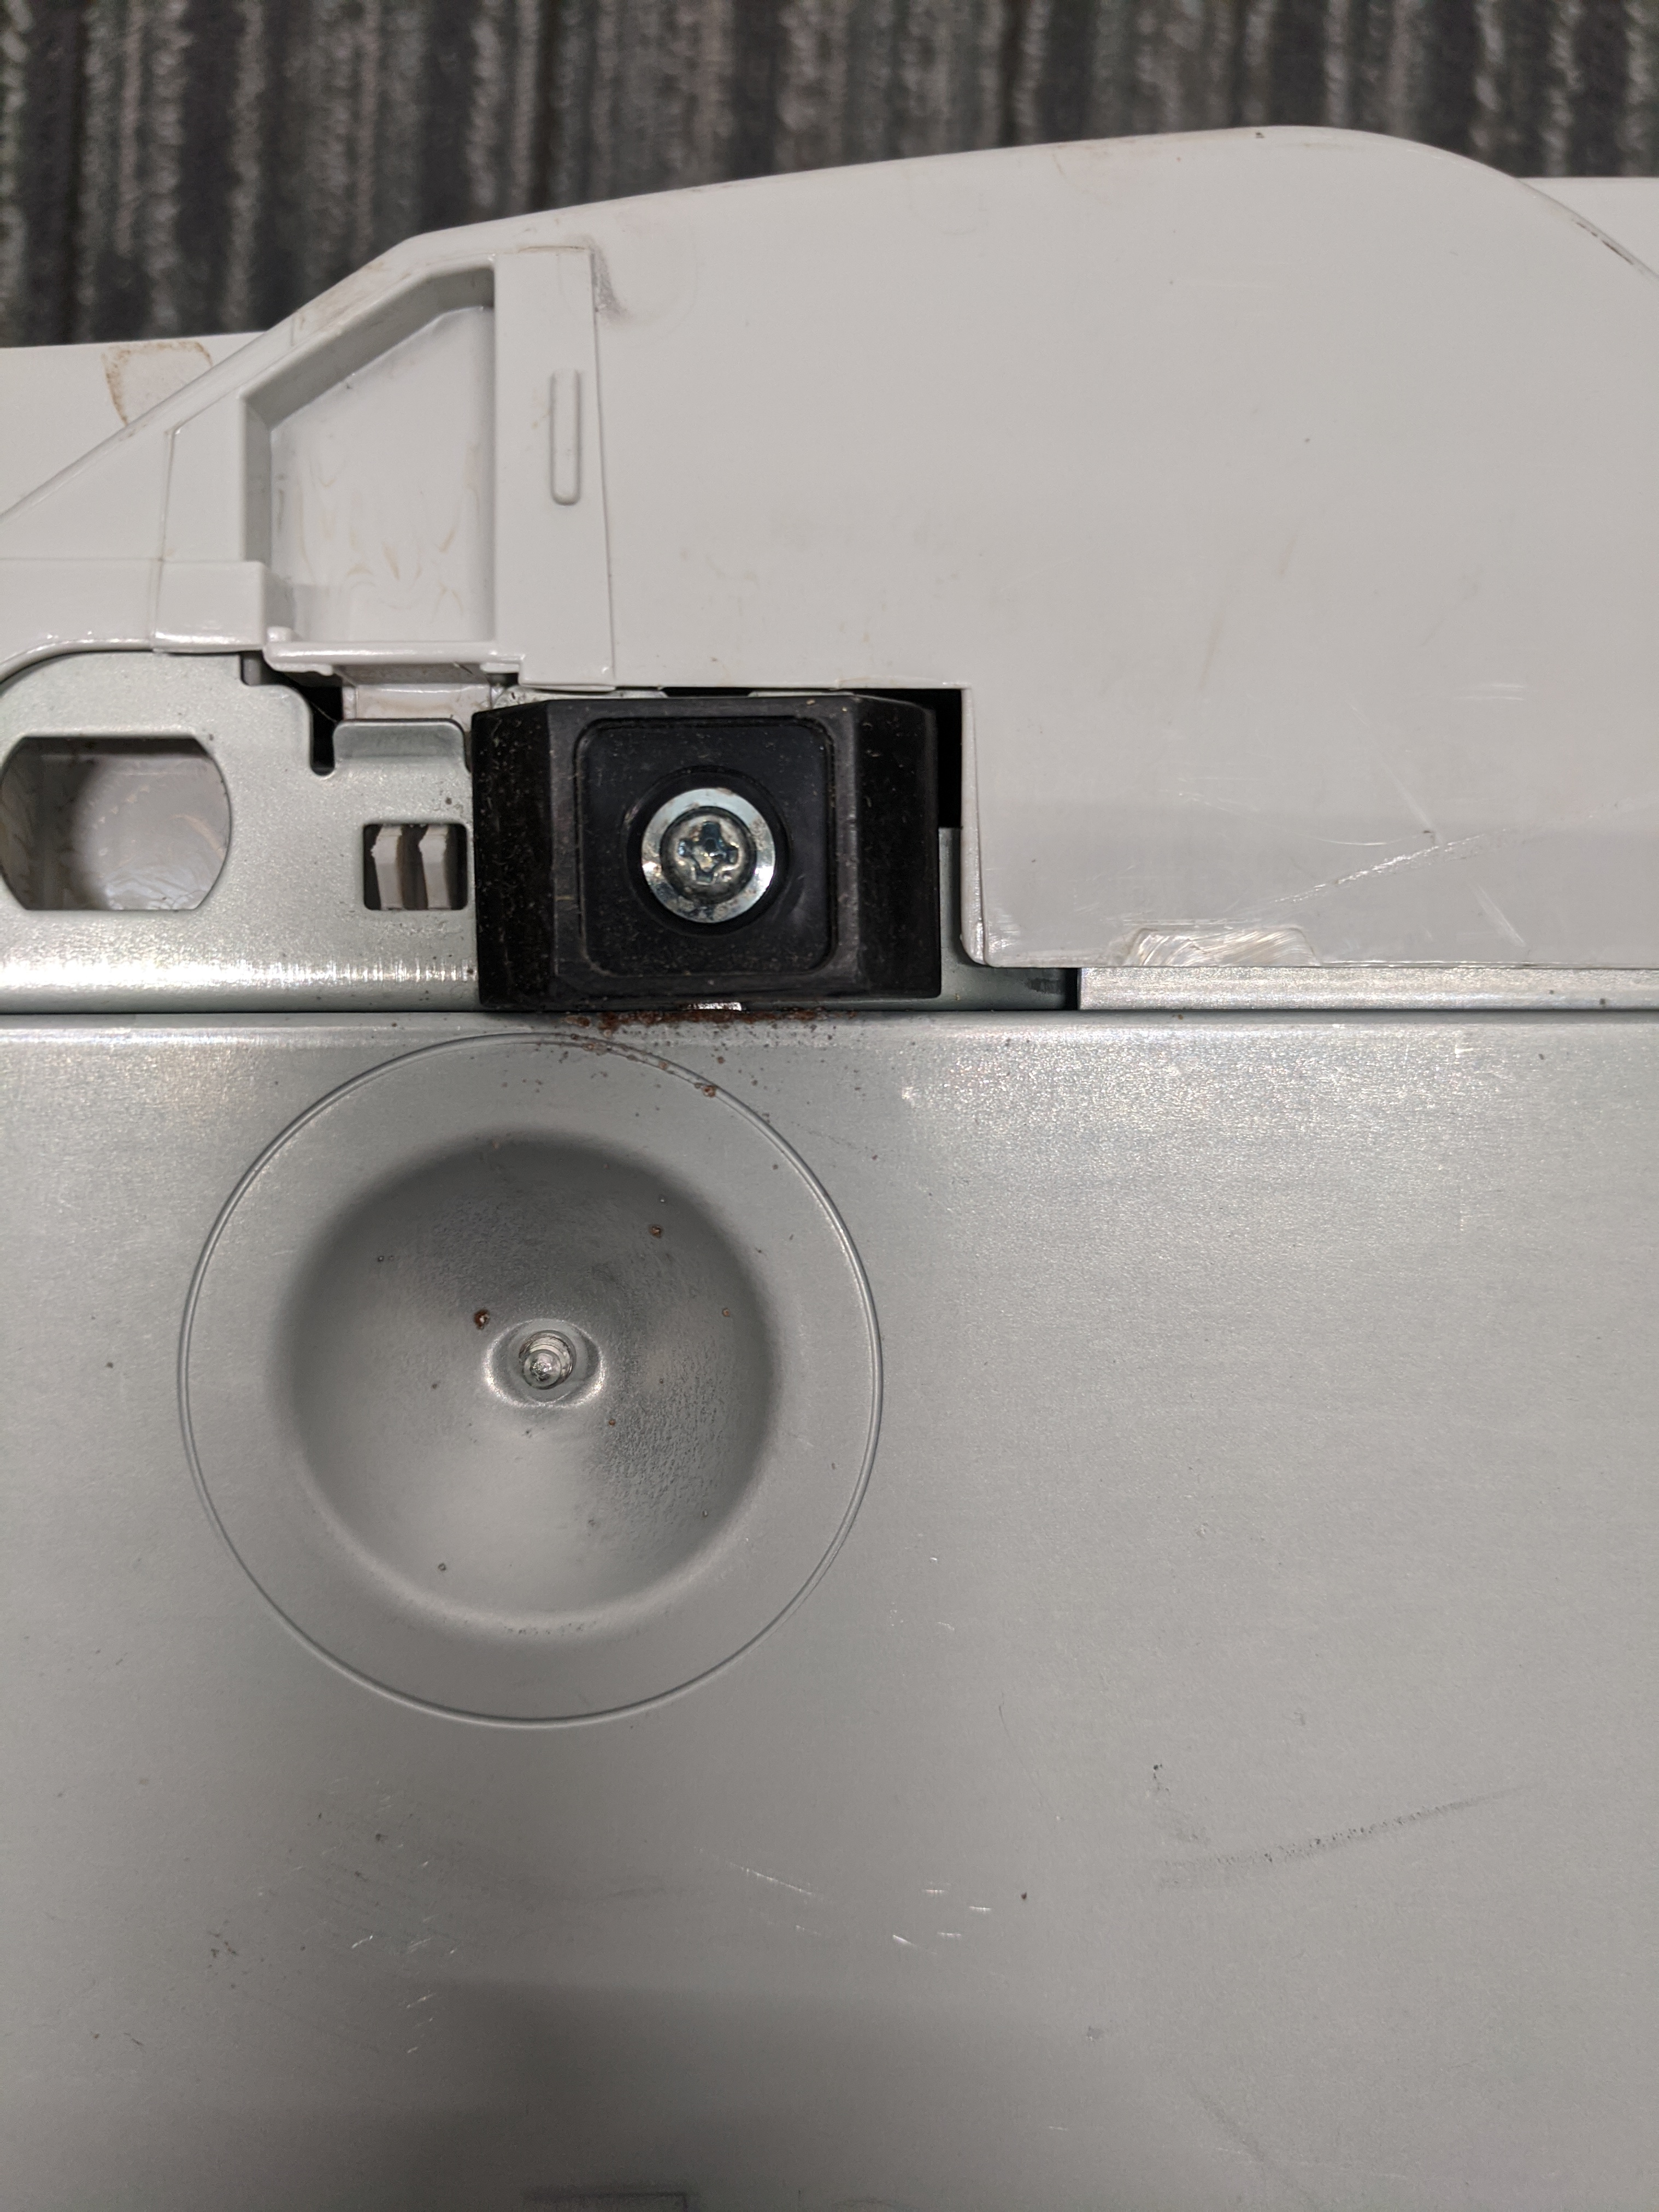cross_recessed_screw: (648, 796, 772, 906)
